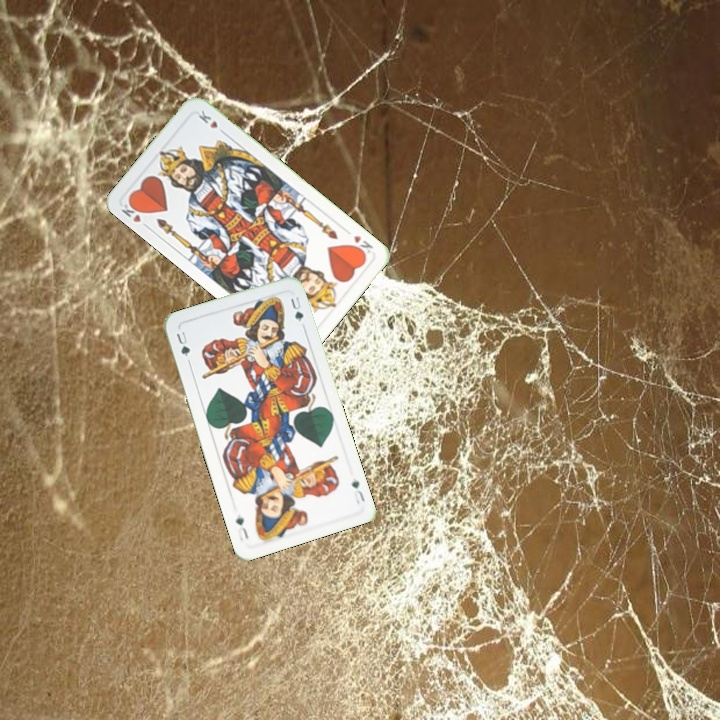GU: (172, 327, 193, 359), (347, 476, 367, 507)
HK: (117, 196, 152, 231), (348, 231, 376, 258)
